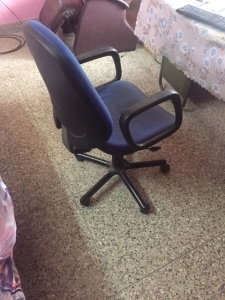chair: (25, 19, 183, 215)
